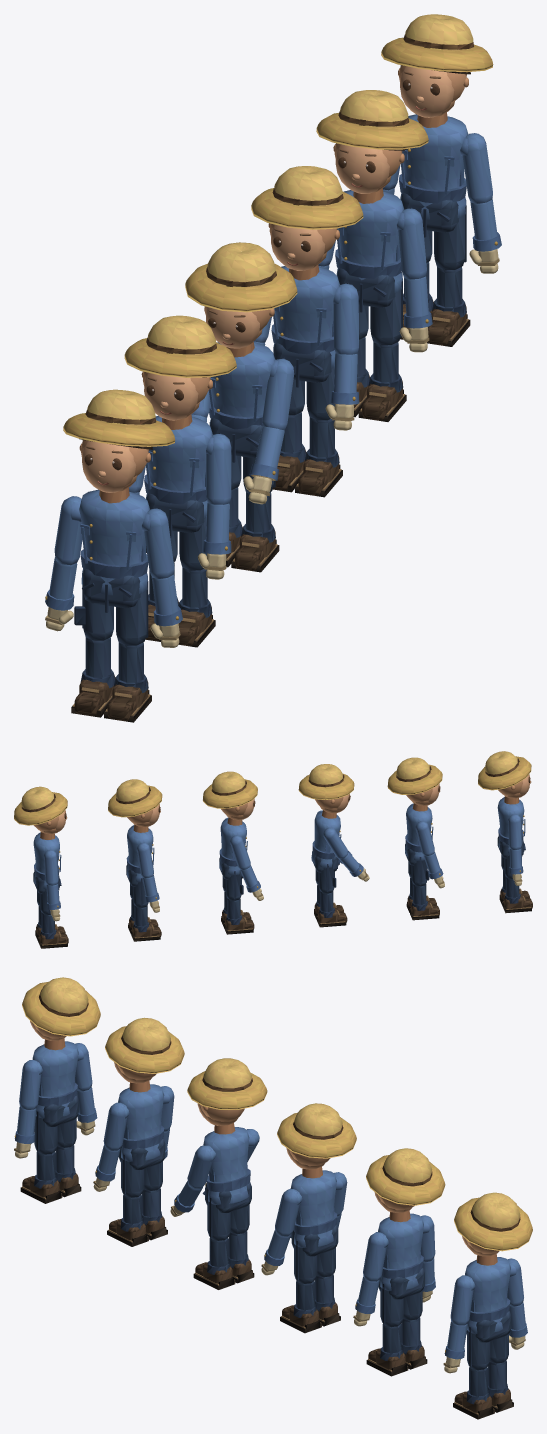
File: ba-inspect-side-after.glb
The picture shows the model from 3 angles, top to bottom: view 1: azimuth 30°, elevation 25°; view 2: azimuth 150°, elevation 25°; view 3: azimuth 270°, elevation 25°; orthographic projection. The views are drawn at different scales.
Visible parts, largest first — view 1: strawHat (×6), denimJacketTorso (×6), head (×6), leftShin (×6), leftUpperArm (×6), trouserHips (×6), leftLowerArm (×6), leftThigh (×5), rightShin (×2), rightUpperArm, rightThigh, rightLowerArm; view 2: strawHat (×6), denimJacketTorso (×6), rightShin (×6), rightUpperArm (×6), head (×6), rightLowerArm (×6), rightThigh (×4); view 3: strawHat (×6), denimJacketTorso (×6), leftShin (×6), rightShin (×6), leftUpperArm (×6), leftThigh (×6), trouserHips (×6), leftLowerArm (×5), rightUpperArm (×3), head, rightLowerArm.
Boxes of the visible parts, x1,y1,x2,y2 form: strawHat (×6): (63,14,493,446); denimJacketTorso (×6): (79,112,468,595); head (×6): (79,65,470,492); leftShin (×6): (104,267,470,722); leftUpperArm (×6): (142,133,492,578); trouserHips (×6): (82,193,458,612); leftLowerArm (×6): (151,198,501,626); leftThigh (×5): (116,205,466,645); rightShin (×2): (71,412,306,717); rightUpperArm: (54,496,82,565); rightThigh: (74,585,113,640); rightLowerArm: (45,557,77,610); strawHat (×6): (14,751,531,825); denimJacketTorso (×6): (33,796,525,889); rightShin (×6): (38,877,532,948); rightUpperArm (×6): (43,814,522,885); head (×6): (33,774,531,834); rightLowerArm (×6): (46,848,523,909); rightThigh (×4): (133,857,429,907); strawHat (×6): (22,977,532,1251); denimJacketTorso (×6): (32,1038,510,1334); leftShin (×6): (20,1151,494,1419); rightShin (×6): (55,1145,513,1412); leftUpperArm (×6): (19,1060,475,1325); leftThigh (×6): (34,1111,490,1370); trouserHips (×6): (43,1095,511,1342); leftLowerArm (×5): (14,1106,467,1359); rightUpperArm (×3): (75,1043,523,1306); head: (197,1103,244,1125); rightLowerArm: (76,1087,97,1122).
Size of what is drawn, in the model's own units: 5.99 by 2.42 by 5.24.
